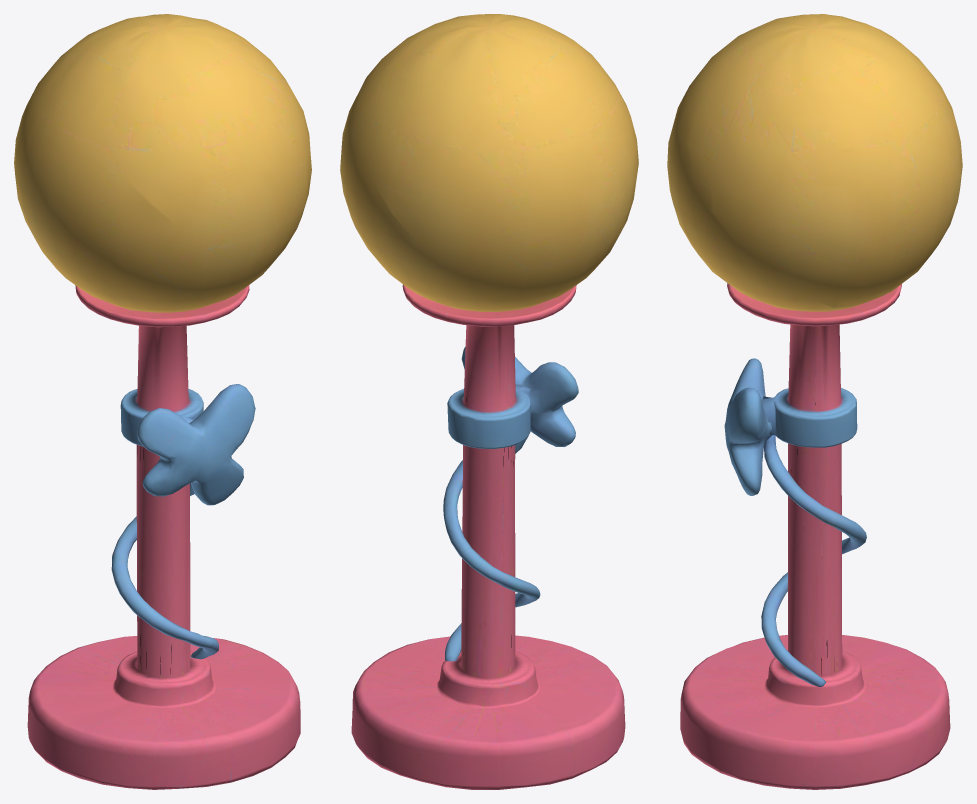
Rendered from floor-lamp.glb.
The picture shows the model from 3 angles, left to right: view 1: azimuth 30°, elevation 25°; view 2: azimuth 150°, elevation 25°; view 3: azimuth 270°, elevation 25°; orthographic projection.
Visible parts, largest first — view 1: geometry_0; view 2: geometry_0; view 3: geometry_0.
Boxes of the visible parts, left/top/right/bottom form: geometry_0: left=14, top=14, right=311, bottom=789; geometry_0: left=340, top=14, right=638, bottom=789; geometry_0: left=667, top=14, right=962, bottom=789.
Bounding box in the file's own units: 0.3853 × 1 × 0.3804.
Materials: 1 (1 with a texture image).
